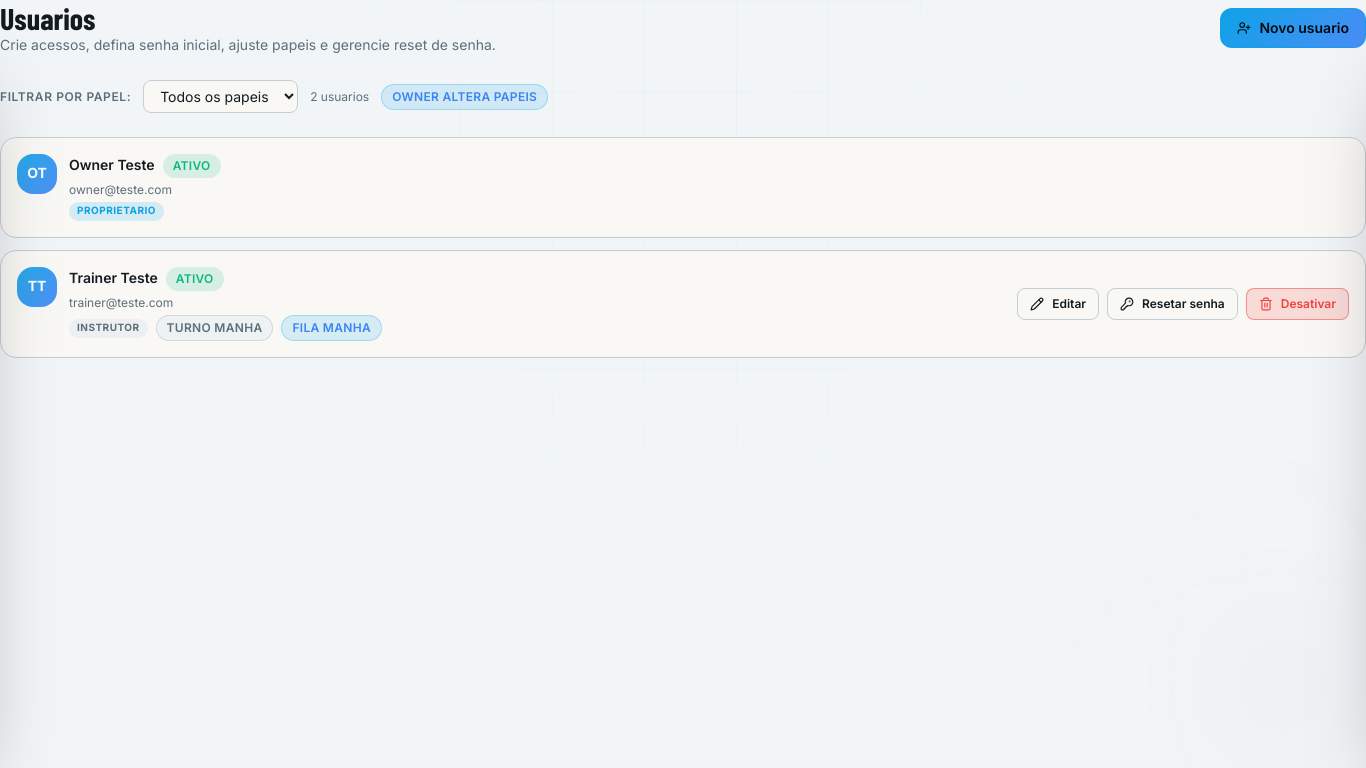
Test case: UsersPage › lets an owner reset a trainer password and shows the temporary password once
Expected: the text "Trainer Teste" is shown, left=69, top=269, right=158, bottom=289
What coordinates should you click on to do the following:
click the button "Resetar senha"
I would click on:
 (1172, 304)
Its box is left=1107, top=288, right=1238, bottom=320.
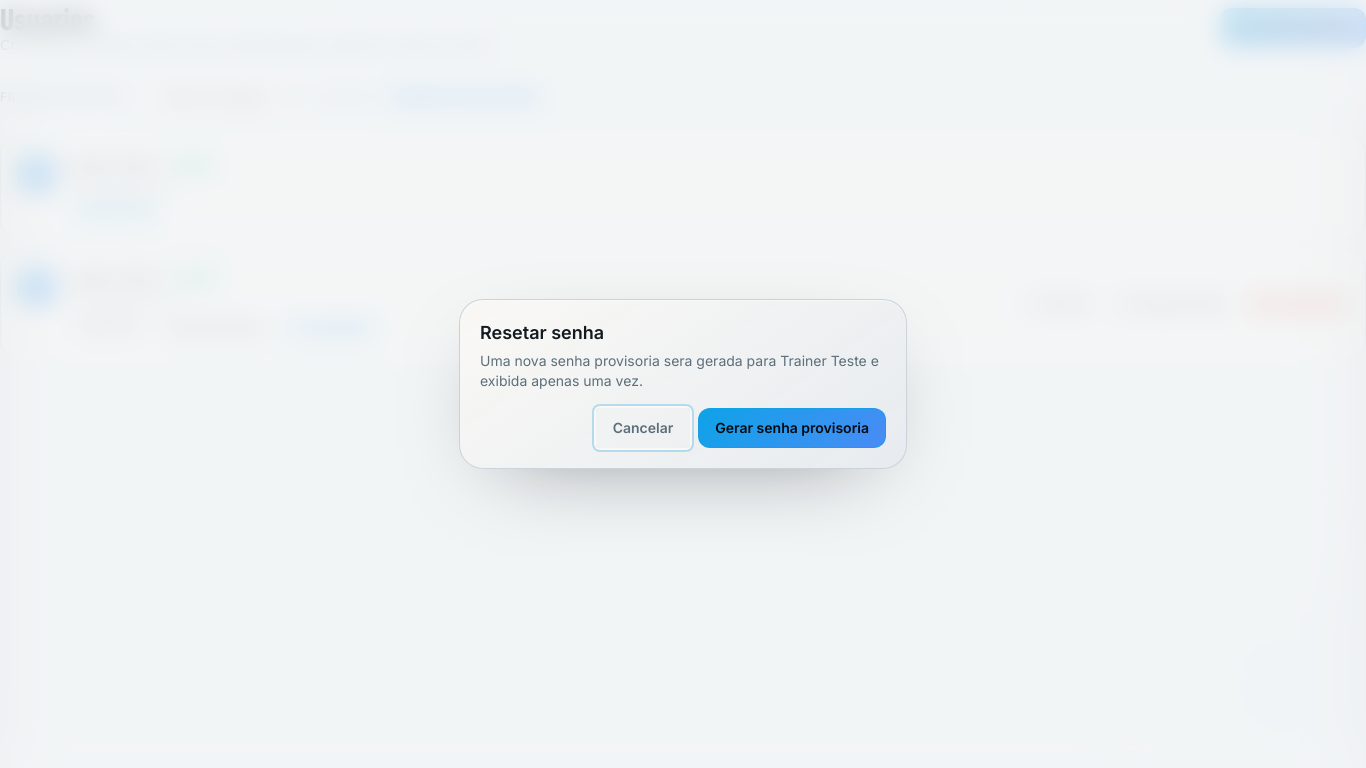
What coordinates should you click on to do the following:
click the button "Gerar senha provisoria"
I would click on:
 (792, 428)
Its box is left=698, top=408, right=886, bottom=448.
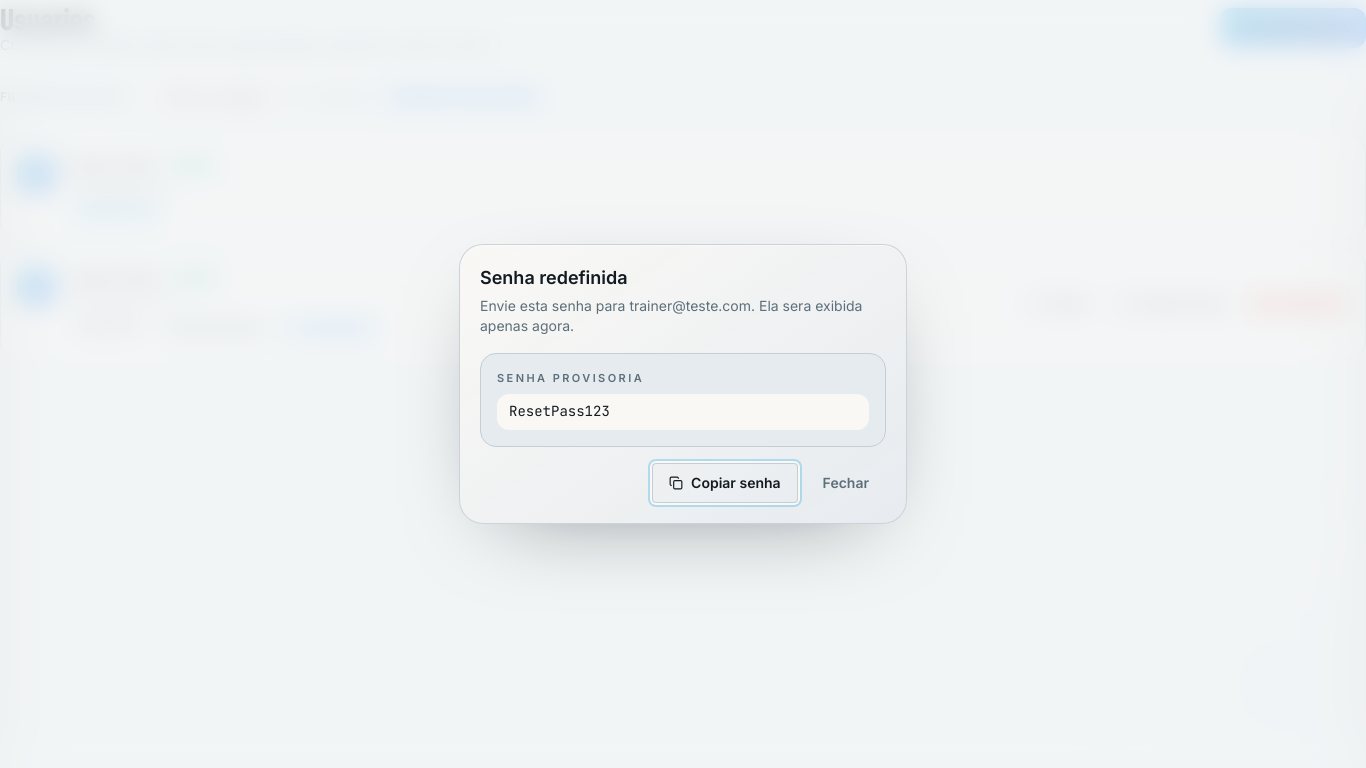
Result: the text "ResetPass123" is shown at left=497, top=394, right=869, bottom=430
